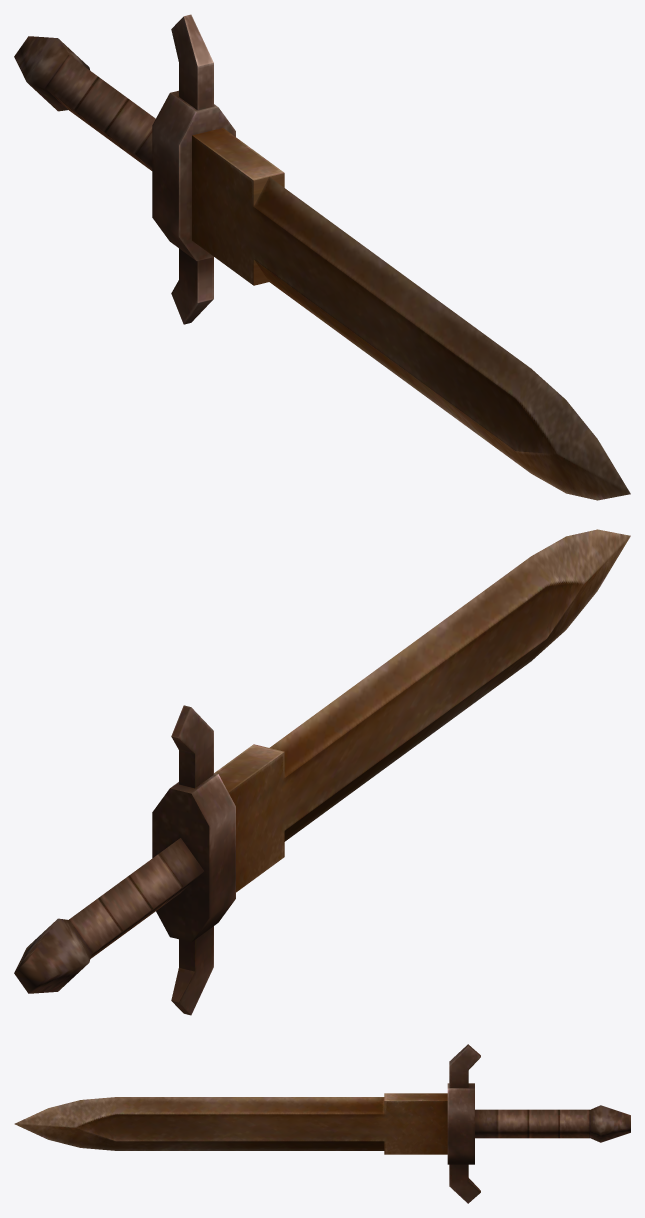
3 views of the same model, one above another, from view 1: azimuth 30°, elevation 25°; view 2: azimuth 150°, elevation 25°; view 3: azimuth 270°, elevation 25° (orthographic). The views are drawn at different scales.
Visible parts, largest first — view 1: mSword; view 2: mSword; view 3: mSword.
Boxes of the visible parts, bbox=[...] form: mSword: bbox=[14, 14, 630, 500]; mSword: bbox=[14, 529, 630, 1015]; mSword: bbox=[14, 1044, 630, 1203].
Bounding box in the file's own units: 0.0468 × 0.2203 × 0.7799.
Materials: 1 (1 with a texture image).
